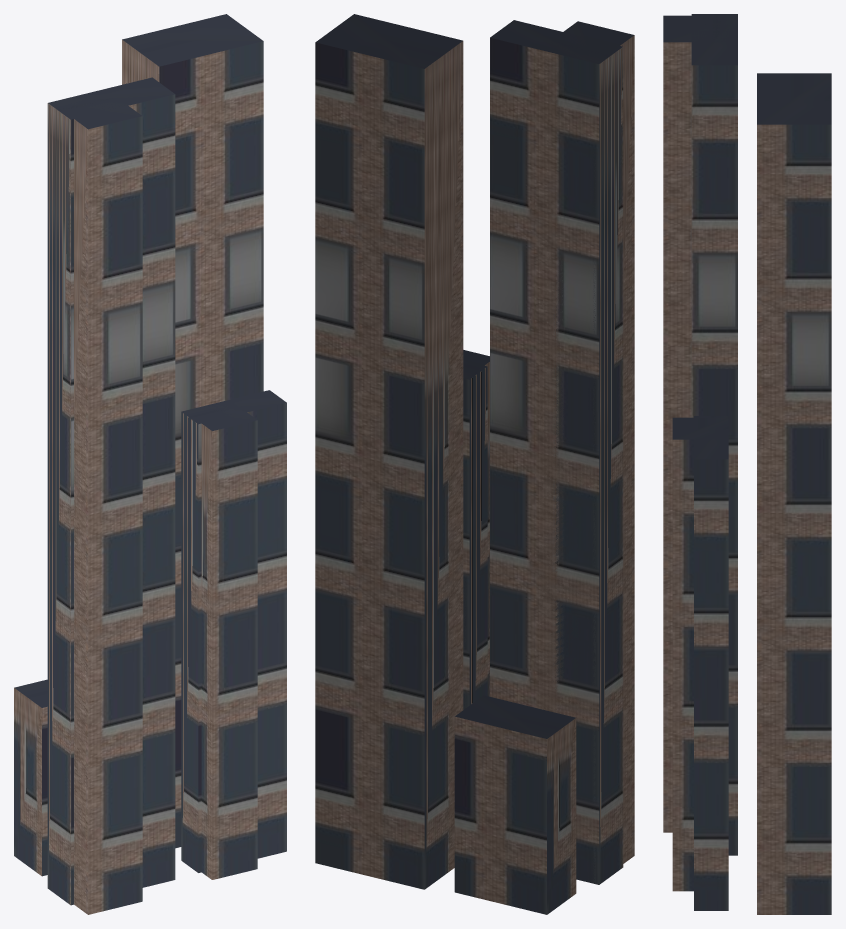
File: city_block_12345_6_09.glb
3 views of the same model, side by side, from view 1: azimuth 30°, elevation 25°; view 2: azimuth 150°, elevation 25°; view 3: azimuth 270°, elevation 25° (orthographic). The views are drawn at different scales.
Visible parts, largest first — view 1: block_09; view 2: block_09; view 3: block_09.
Boxes of the visible parts, x1,y1,x2,y2 form: block_09: (14,14,286,914); block_09: (315,14,634,914); block_09: (663,14,831,914).
Bounding box in the file's own units: 4.2 × 14 × 2.7.
Materials: 4 (4 with a texture image).
